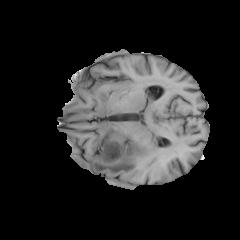glioma: (92, 133, 140, 174)
